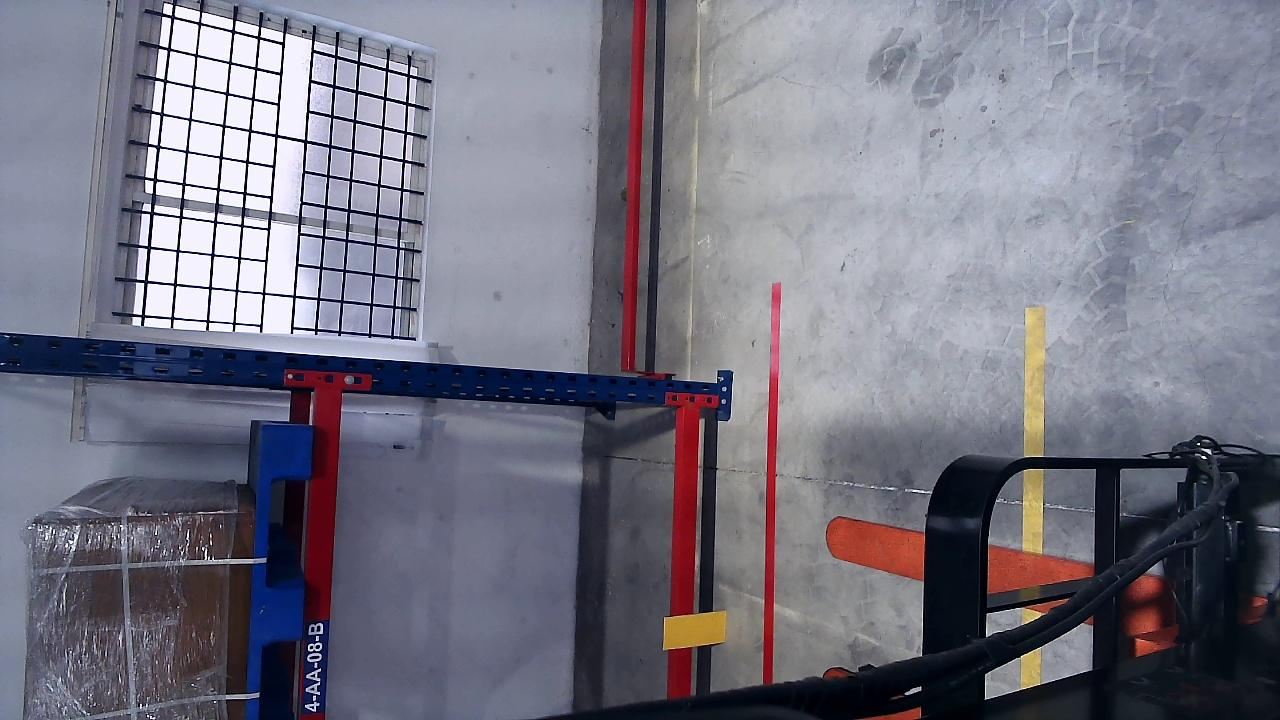h_rack: (307, 390, 331, 720), (674, 405, 699, 692)
orange_strip: (663, 610, 727, 649)
red_line: (766, 280, 782, 680)
small_pallet: (250, 421, 317, 714)
yellow_line: (1021, 306, 1046, 683)
